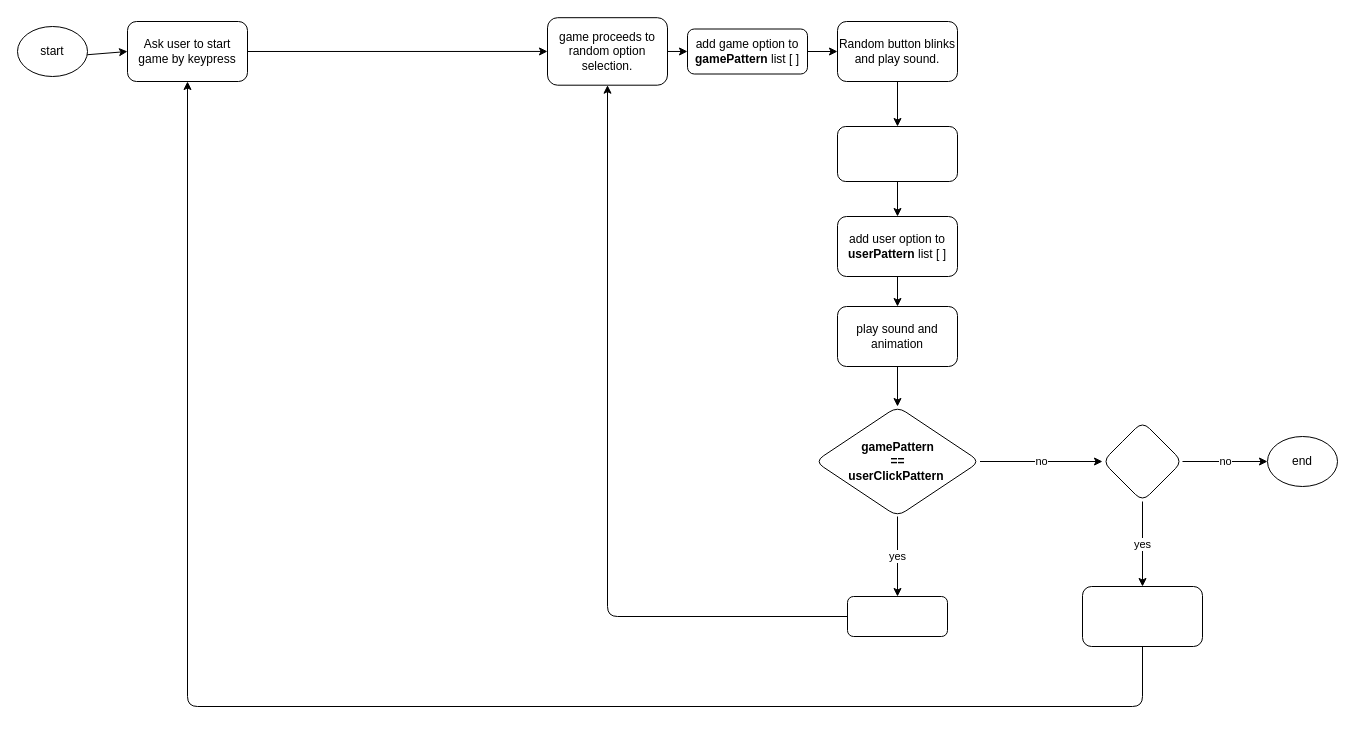
This 1355x732 diagram has some shape labels left out. The centre of each missing label's shape, as x and y in pixels:
proceed to next level: the point at 897,616
restart?: the point at 1142,461
restarting...: the point at 1142,616
user clicks a button: the point at 897,154
